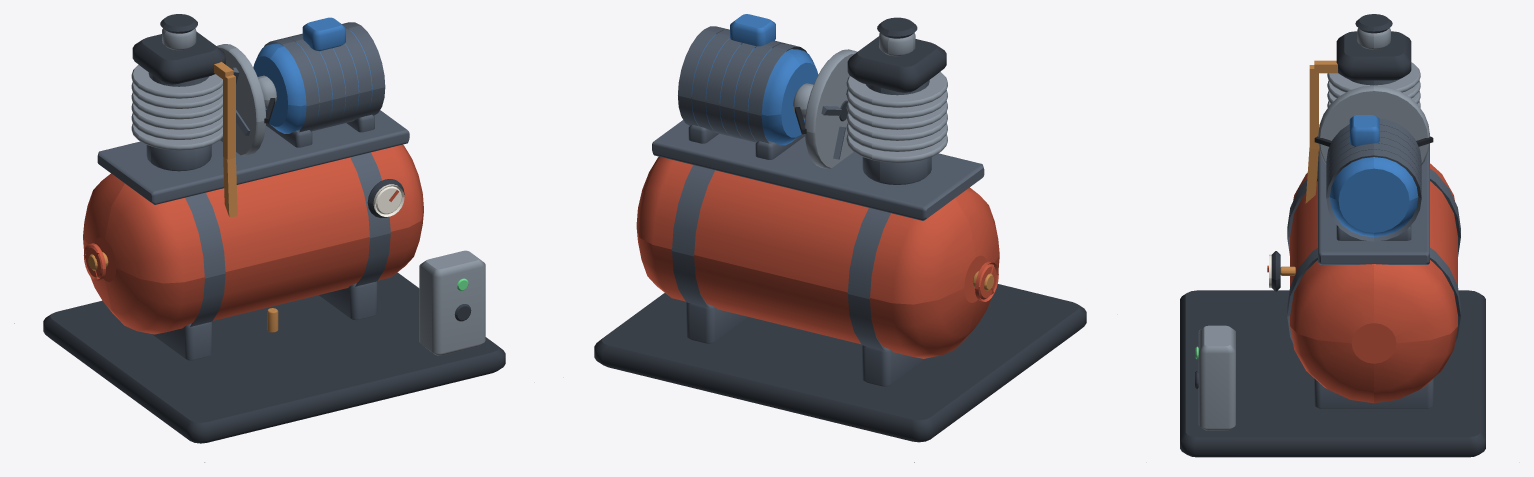
File: compresseur_air.glb
The picture shows the model from 3 angles, left to right: view 1: azimuth 30°, elevation 25°; view 2: azimuth 150°, elevation 25°; view 3: azimuth 270°, elevation 25°; orthographic projection. The views are drawn at different scales.
Visible parts, largest first — view 1: pieces_av_fonce.006, pieces_av_rouge.004, pieces_av_sombre.006, pieces_av_gris.004, pieces_av_bleu.002, volant_av_gris.002, pieces_av_cuivre.002, pieces_av_cadran.002; view 2: pieces_av_rouge.004, pieces_av_fonce.006, pieces_av_sombre.006, pieces_av_gris.004, pieces_av_bleu.002, volant_av_gris.002; view 3: pieces_av_fonce.006, pieces_av_rouge.004, pieces_av_sombre.006, pieces_av_bleu.002, pieces_av_gris.004, volant_av_gris.002, pieces_av_cuivre.002.
Boxes of the visible parts, x1=… form: pieces_av_fonce.006: x1=43, y1=14, x2=505, y2=443; pieces_av_rouge.004: x1=83, y1=144, x2=423, y2=334; pieces_av_sombre.006: x1=97, y1=22, x2=409, y2=360; pieces_av_gris.004: x1=131, y1=28, x2=485, y2=355; pieces_av_bleu.002: x1=253, y1=17, x2=372, y2=133; volant_av_gris.002: x1=216, y1=44, x2=265, y2=156; pieces_av_cuivre.002: x1=88, y1=62, x2=278, y2=332; pieces_av_cadran.002: x1=373, y1=184, x2=404, y2=216; pieces_av_rouge.004: x1=636, y1=156, x2=999, y2=358; pieces_av_fonce.006: x1=594, y1=17, x2=1086, y2=442; pieces_av_sombre.006: x1=652, y1=26, x2=984, y2=386; pieces_av_gris.004: x1=793, y1=33, x2=947, y2=162; pieces_av_bleu.002: x1=691, y1=14, x2=818, y2=145; volant_av_gris.002: x1=804, y1=49, x2=857, y2=168; pieces_av_fonce.006: x1=1180, y1=14, x2=1485, y2=457; pieces_av_rouge.004: x1=1267, y1=163, x2=1457, y2=403; pieces_av_sombre.006: x1=1287, y1=79, x2=1460, y2=408; pieces_av_bleu.002: x1=1330, y1=115, x2=1418, y2=237; pieces_av_gris.004: x1=1198, y1=28, x2=1420, y2=430; volant_av_gris.002: x1=1318, y1=85, x2=1429, y2=164; pieces_av_cuivre.002: x1=1280, y1=60, x2=1337, y2=275.
Bounding box in the file's own units: 1 × 0.97 × 1.
